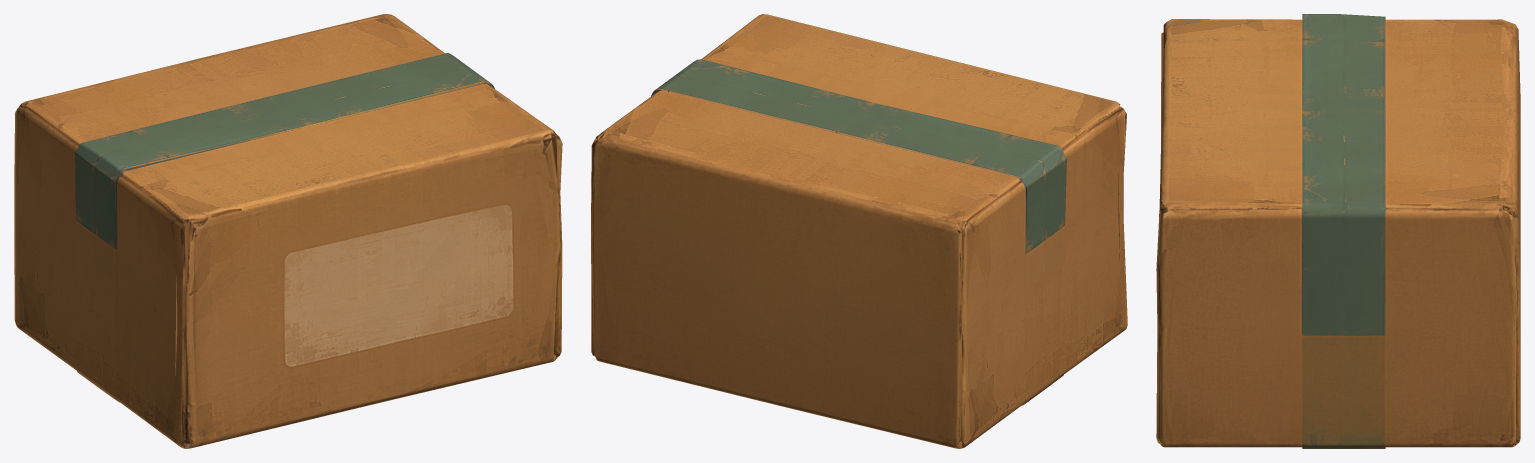
File: P80_cardboard_carton_Runtime_1k.glb
3 renders of one model, left to right at view 1: azimuth 30°, elevation 25°; view 2: azimuth 150°, elevation 25°; view 3: azimuth 270°, elevation 25°, orthographic. The views are drawn at different scales.
Visible parts, largest first — view 1: tripo_node_e8468e9a; view 2: tripo_node_e8468e9a; view 3: tripo_node_e8468e9a.
Part boxes in pixels (left/top/right/bottom): tripo_node_e8468e9a: left=14, top=14, right=562, bottom=448; tripo_node_e8468e9a: left=591, top=14, right=1127, bottom=448; tripo_node_e8468e9a: left=1156, top=14, right=1520, bottom=448.
Size of the model in its own units: 0.6 by 0.352 by 0.4716.
1 material, 1 textured.
